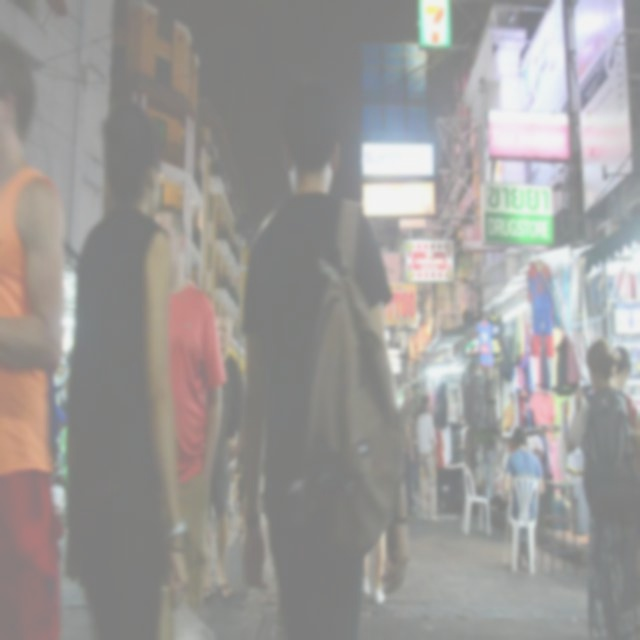pessoa: (234, 76, 413, 639), (55, 91, 197, 638), (0, 22, 70, 638), (154, 204, 228, 607), (562, 333, 640, 639), (203, 304, 248, 604), (500, 424, 547, 574), (410, 391, 440, 526), (398, 382, 418, 518), (361, 530, 394, 604), (612, 343, 640, 428), (228, 442, 247, 538), (432, 413, 446, 508), (501, 388, 516, 435)
